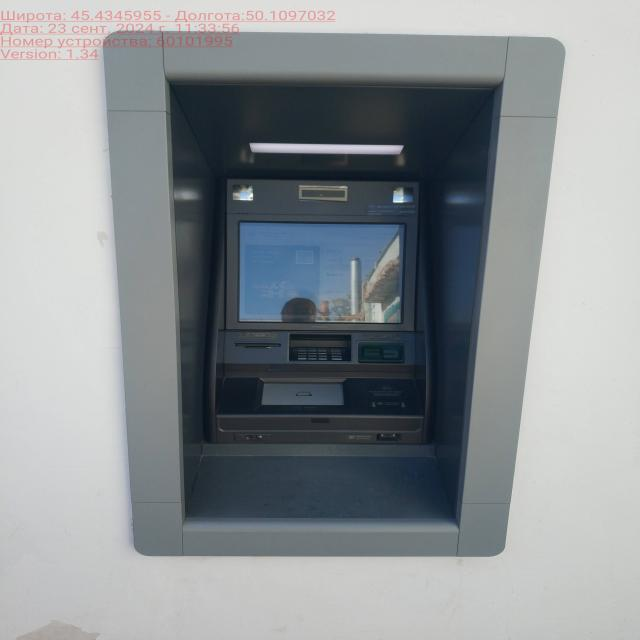bank: (130, 63, 516, 533)
